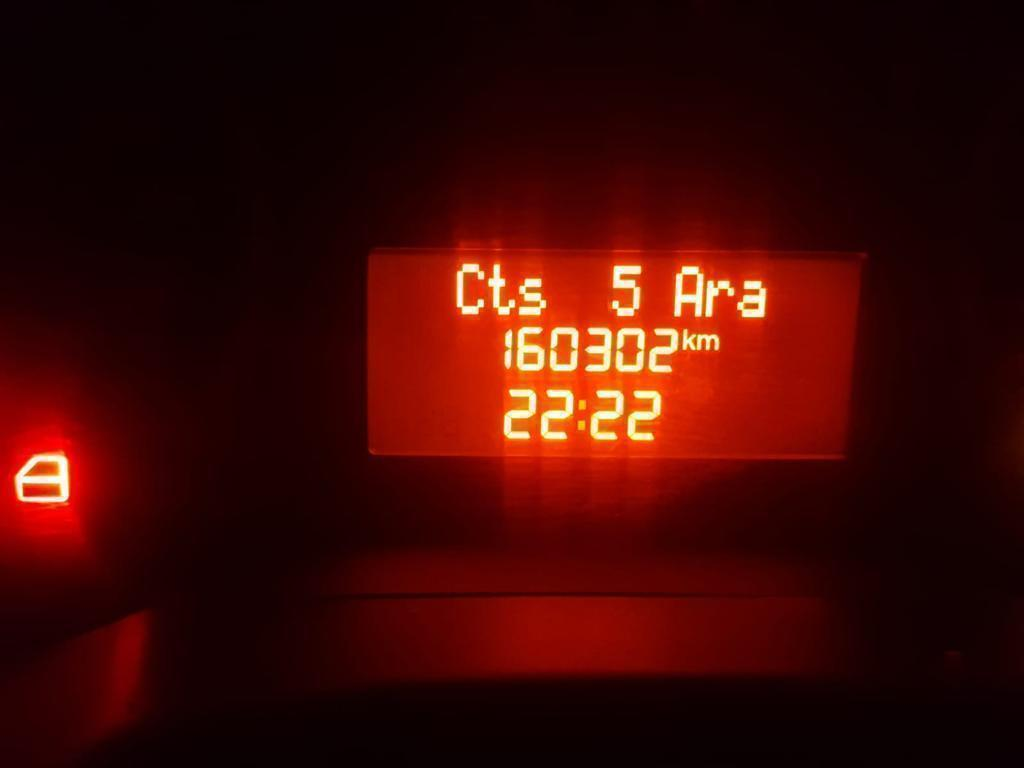0: (546, 324, 581, 373), (613, 326, 645, 375)
1: (498, 328, 512, 372)
2: (538, 387, 575, 443), (501, 386, 537, 442), (590, 387, 624, 446), (627, 387, 662, 442), (646, 326, 679, 373)
3: (584, 325, 612, 374)
5: (606, 261, 642, 318)
6: (515, 325, 545, 373)
X: (451, 259, 486, 316), (671, 260, 703, 322), (517, 266, 548, 322), (487, 262, 516, 317), (705, 273, 735, 322), (737, 275, 768, 321), (697, 329, 722, 355), (576, 396, 588, 434), (682, 326, 696, 351)
odometer: (358, 245, 873, 471)
